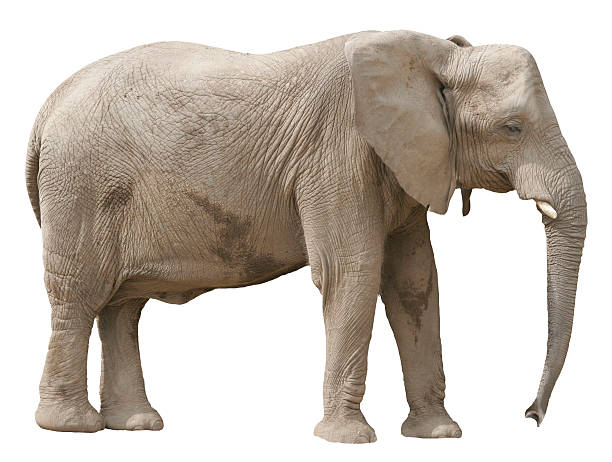africanelephant: (406, 36, 586, 245)
